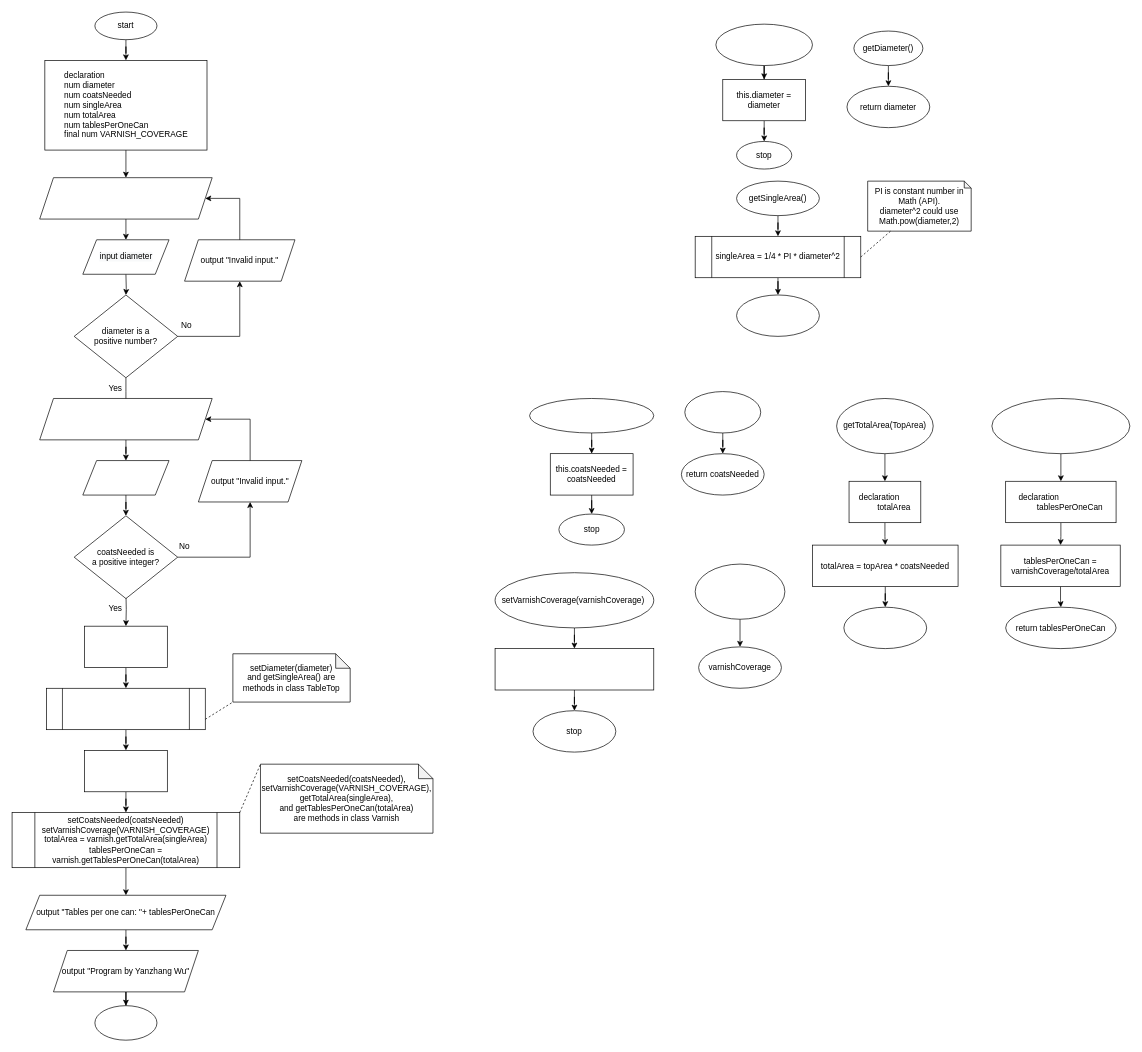
The diagram is 1142 pixels wide and 1052 high, and some of its shapes have lost their labels. Each missing label, with the centre of its shape:
declaration TableTop top: (x=125, y=646)
declaration Varnish varnish: (x=125, y=771)
end: (x=125, y=1022)
getCoatsNeeded(): (x=722, y=412)
getTablesPerOneCan(totalArea): (x=1060, y=426)
getVarnishCoverage(): (x=739, y=591)
input coatsNeeded: (x=125, y=477)
output "Please enter coats needed:": (x=125, y=419)
output "Please enter diameter (inches):": (x=125, y=198)
return singleArea: (x=777, y=315)
return totalArea: (x=885, y=628)
setCoatsNeeded(coatsNeeded): (x=591, y=415)
setDiameter(diameter): (x=763, y=44)
setDiameter(diameter) singleArea = top.getSingleArea(): (x=125, y=709)
this.varnishCoverage=varnishCoverage: (x=574, y=669)
